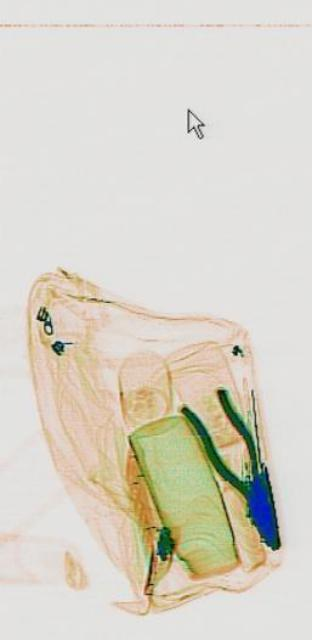Pliers: (179, 352, 292, 574)
